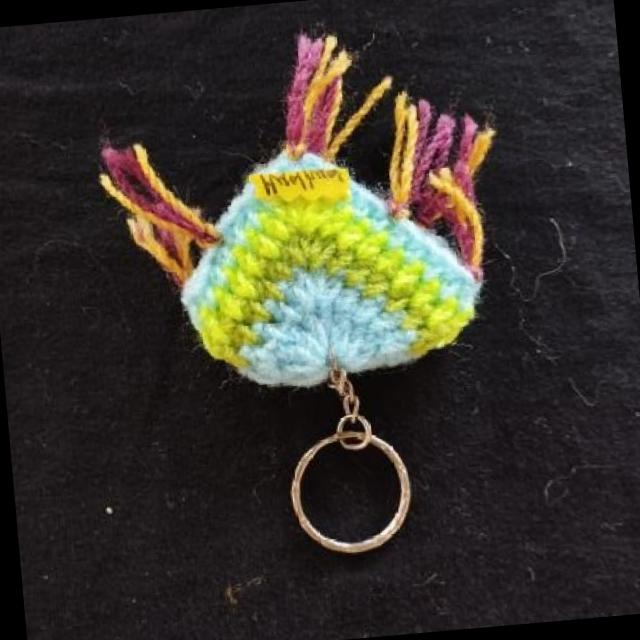Llavero: (86, 12, 518, 406)
